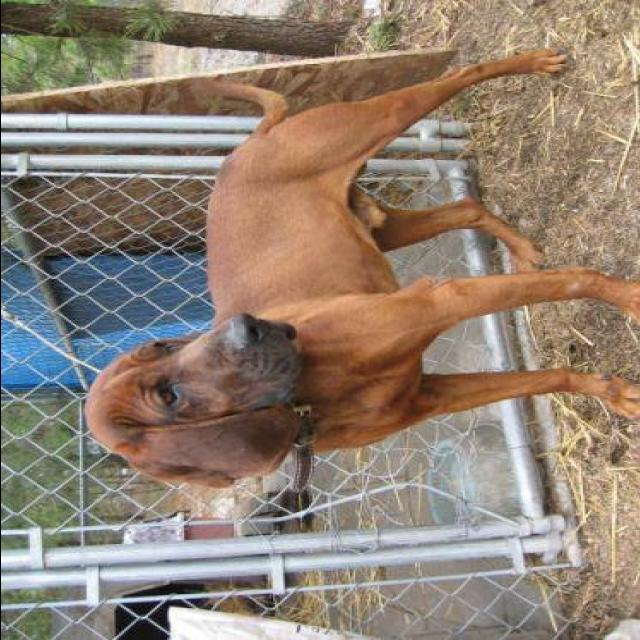dog: (77, 48, 640, 508)
